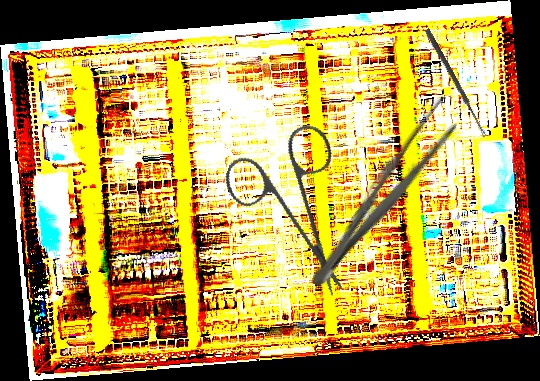Dressing Forceps: (300, 92, 469, 297)
Iris Scissors: (199, 104, 392, 299)
Surgical Spoon: (423, 28, 489, 138)
